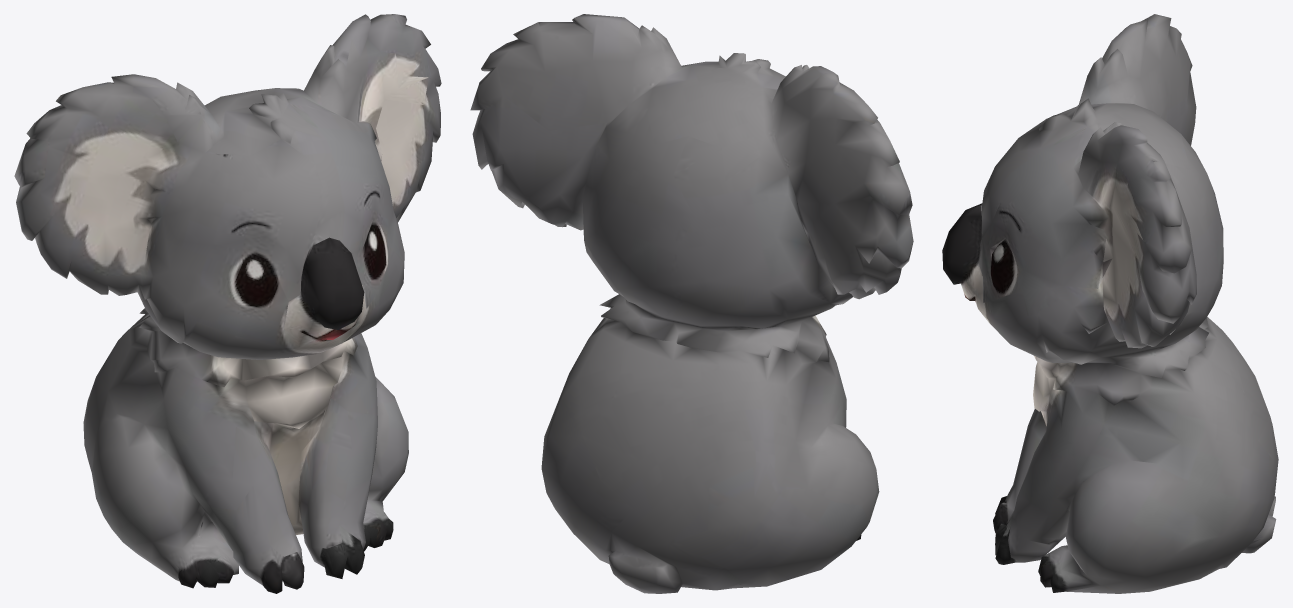
The model's file is koala.glb.
3 views of the same model, side by side, from view 1: azimuth 30°, elevation 25°; view 2: azimuth 150°, elevation 25°; view 3: azimuth 270°, elevation 25° (orthographic). The views are drawn at different scales.
Parts seen in each view (by area): view 1: model; view 2: model; view 3: model.
Boxes of the visible parts, <box> form: model: <box>14,14,441,593</box>; model: <box>470,14,913,593</box>; model: <box>942,14,1278,593</box>.
Size of the model in its own units: 1.69 by 1.89 by 1.22.
1 material, 1 textured.
